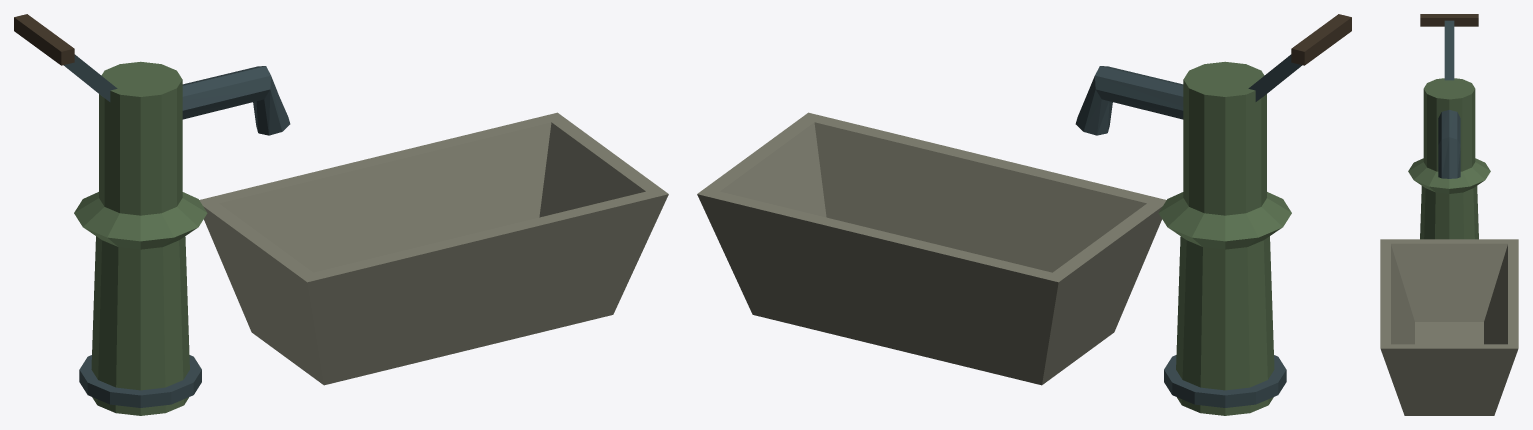
Rendered from Prop_Daily_PumpAndTrough_001.glb.
3 renders of one model, left to right at view 1: azimuth 30°, elevation 25°; view 2: azimuth 150°, elevation 25°; view 3: azimuth 270°, elevation 25°, orthographic. The views are drawn at different scales.
Visible parts, largest first — view 1: Prop_Daily_PumpAndTrough_001; view 2: Prop_Daily_PumpAndTrough_001; view 3: Prop_Daily_PumpAndTrough_001.
Part boxes in pixels (box(x1,y1,x2,y2)): Prop_Daily_PumpAndTrough_001: box(14, 14, 668, 415); Prop_Daily_PumpAndTrough_001: box(697, 14, 1351, 415); Prop_Daily_PumpAndTrough_001: box(1380, 14, 1518, 415).
Bounding box in the file's own units: 2.39 × 1.53 × 0.8.
